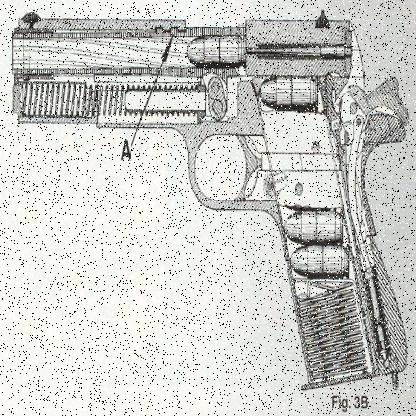pistol: (12, 10, 409, 392)
